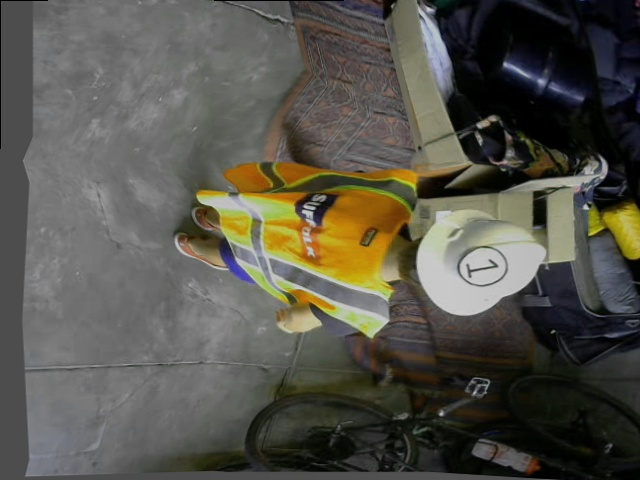one: (456, 245, 508, 285)
